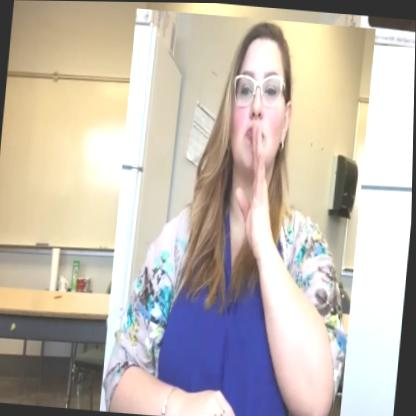Talk: (102, 8, 376, 416)
